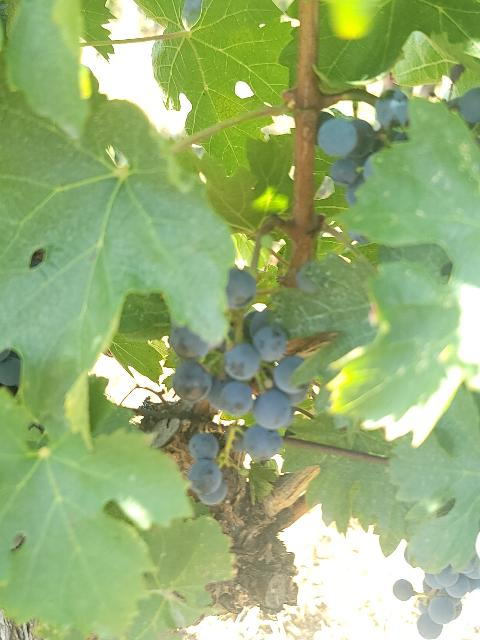grapes: (170, 311, 305, 459), (188, 432, 228, 505), (226, 268, 258, 310)
